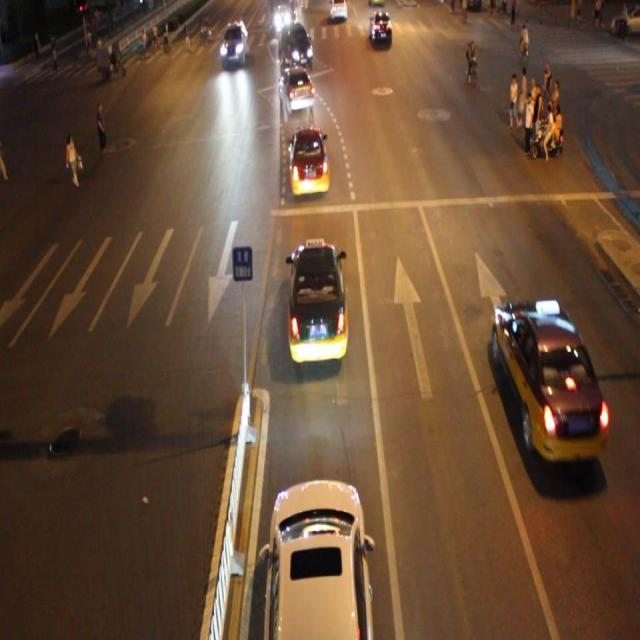car: (492, 298, 602, 462), (265, 479, 374, 640), (289, 241, 345, 360), (289, 125, 329, 197), (278, 67, 314, 113), (280, 23, 313, 68), (220, 20, 248, 65), (367, 10, 392, 48)
